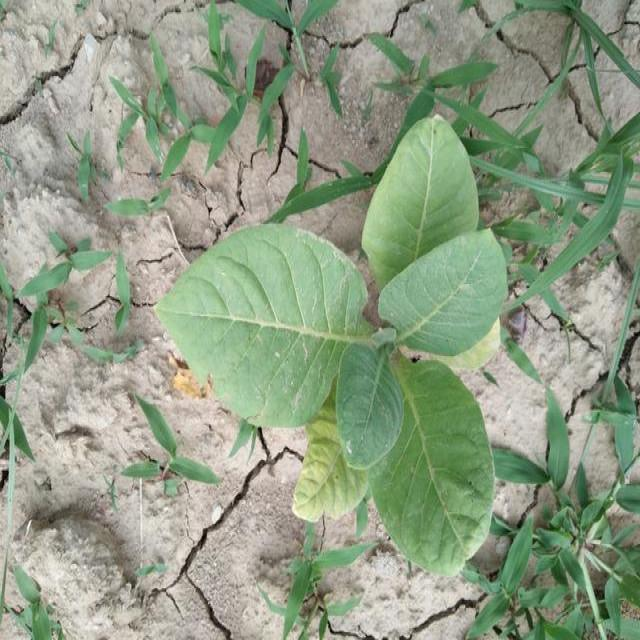crop: (152, 108, 507, 575)
